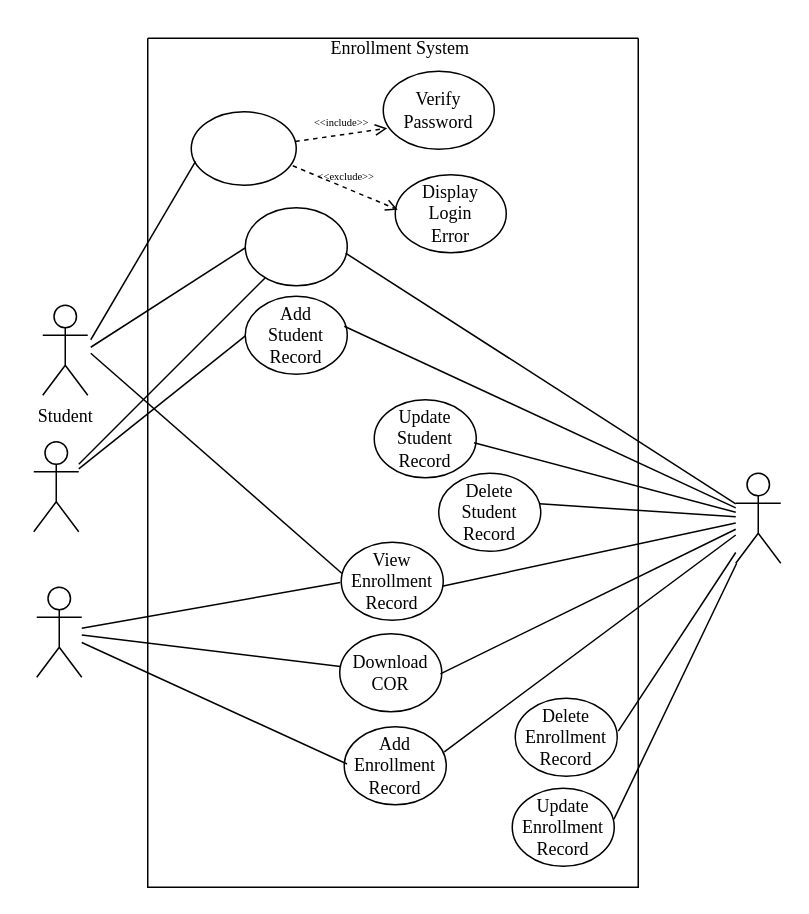
Image size: 809x914. Some labels were removed from this diagram. The shapes that lost their labels are listed below. From the top down, each one's box as (x1, y1, x2, y2) in pixels, then its label:
(190, 110, 296, 185): Login
(244, 206, 347, 286): View Student Record
(32, 440, 79, 532): Officer
(734, 472, 781, 563): Admin
(35, 586, 82, 677): Registrar
